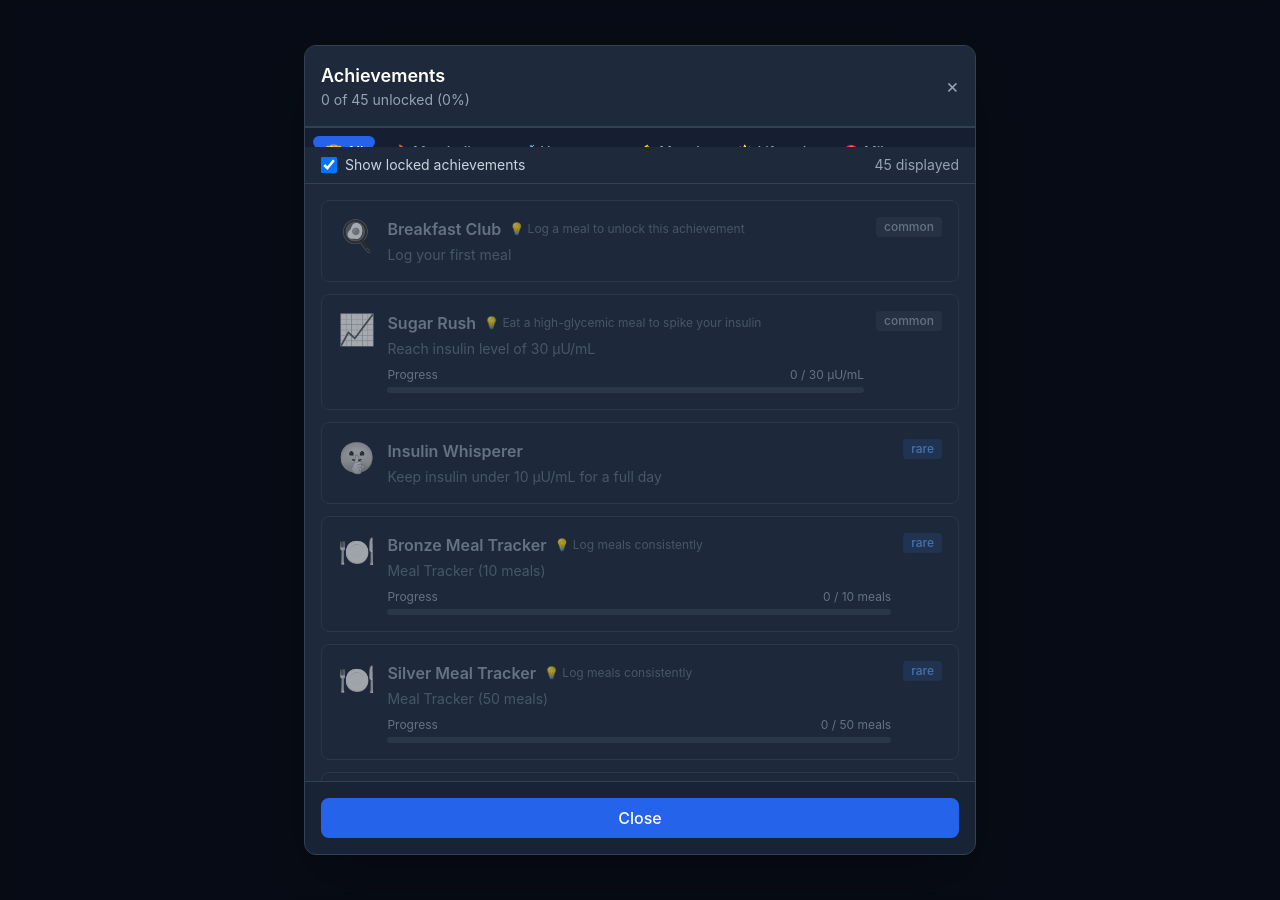
Test: AchievementsPanel › should show "No achievements to display" when filter matches none
Note: Uncheck "Show locked achievements" with no unlocked achievements
Click the checkbox labelled "Show locked achievements": x=329, y=165 [321,157,337,173]
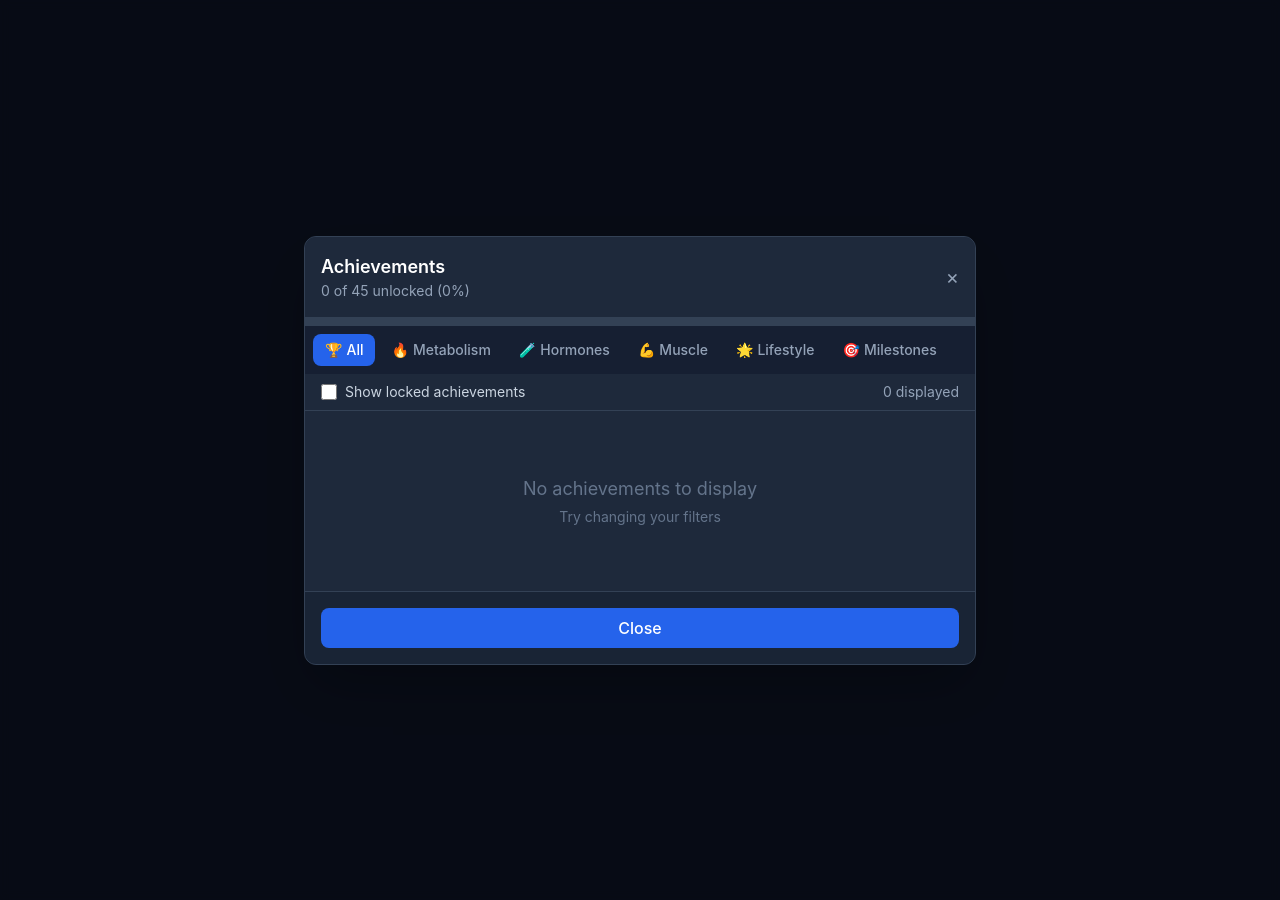
Expected: the text "No achievements to display" is shown, [523,478,757,498]
